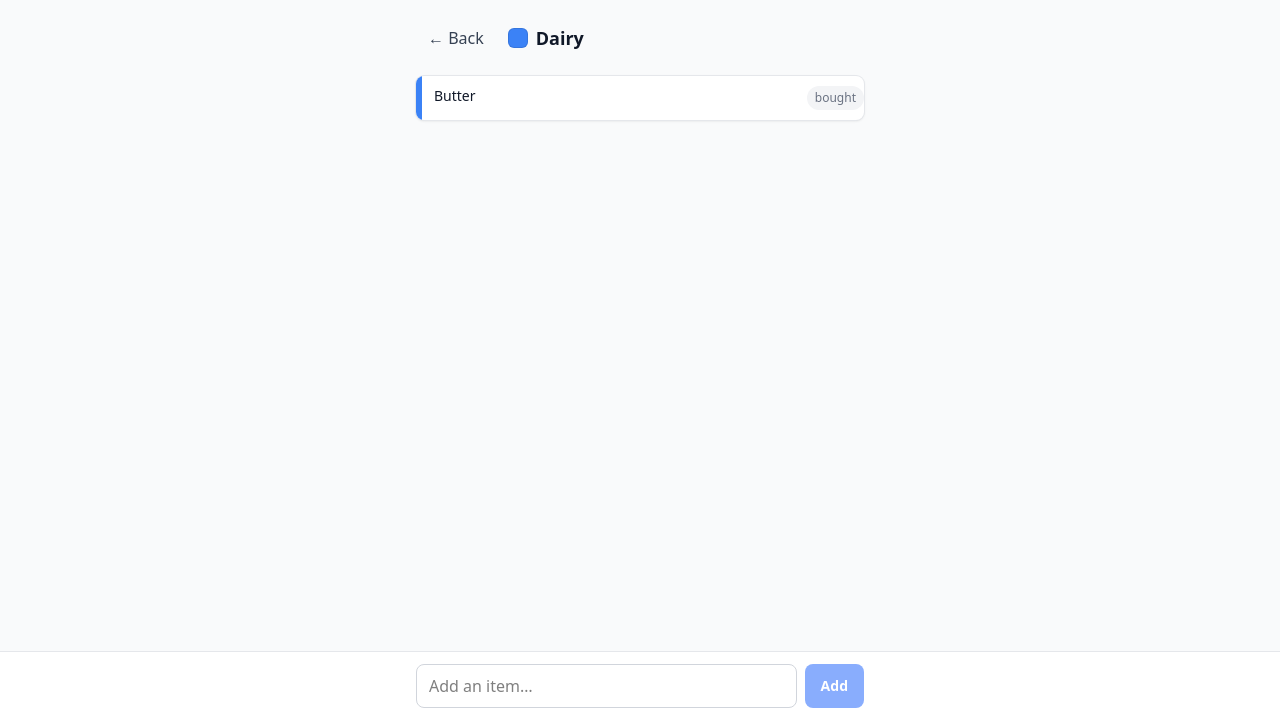
Test: CategoryItemsPage add-from-category bar (docs/TASKS.md → T43) › re-activates a bought suggestion in place via move (DoD)
Expected: the text "bought" is shown, [807,86,864,110]
Type "Butter" into the field named "Add item" at (606, 686), box [416,664,797,708]
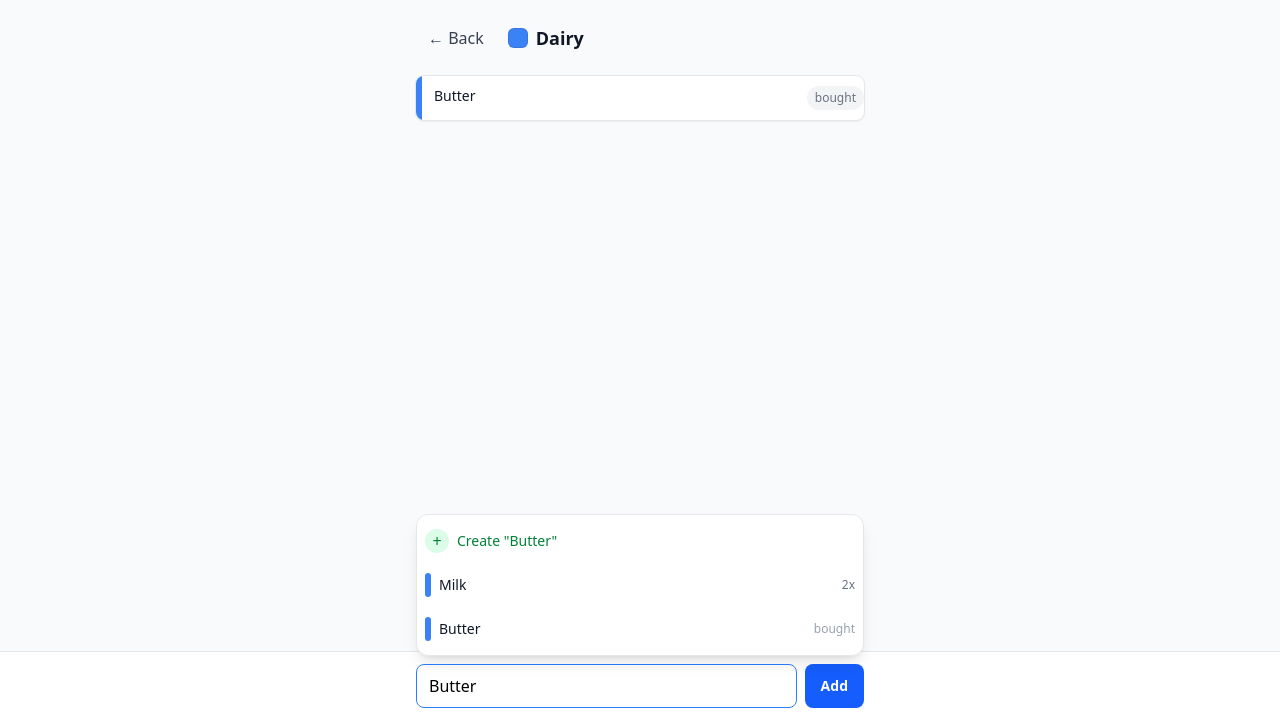
Click the button with test id "suggestion-i2" at (460, 628), box [421,607,859,651]
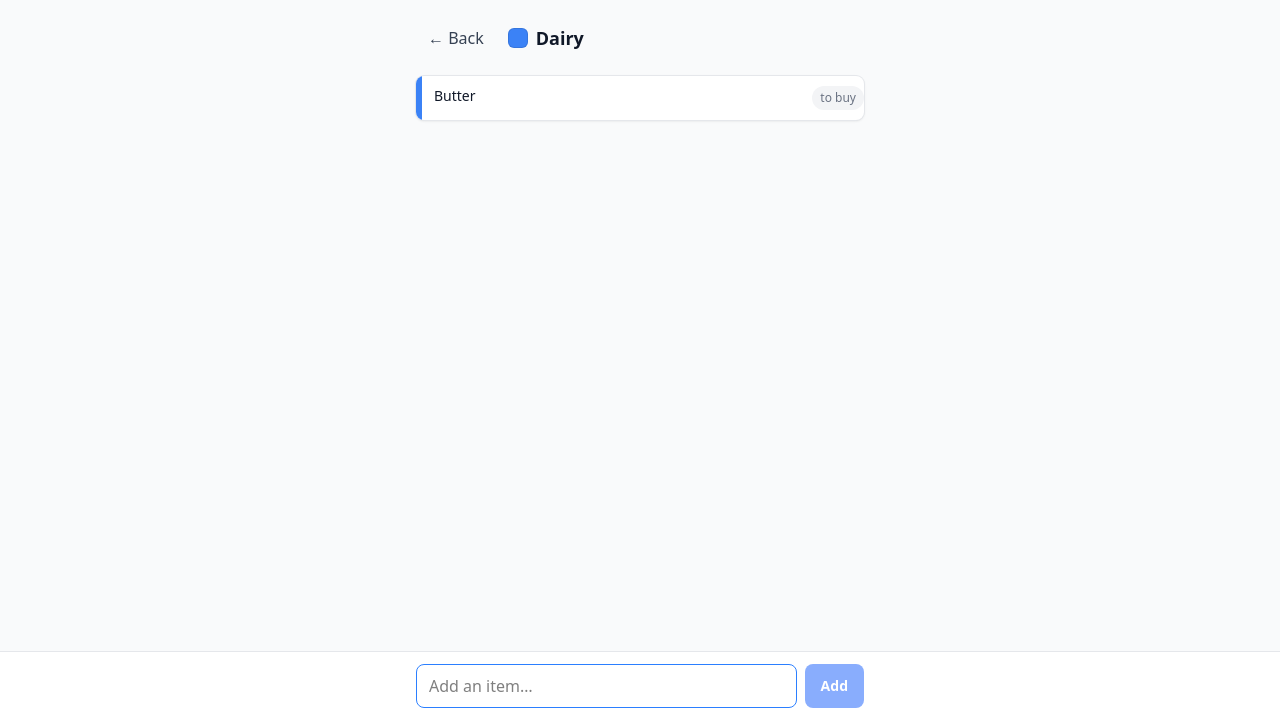
Expected: the text "to buy" is shown, [812,86,864,110]
Expected: the field named "Add item" is empty, [416,664,797,708]
Expected: the element with test id "suggestions-popover" is gone
